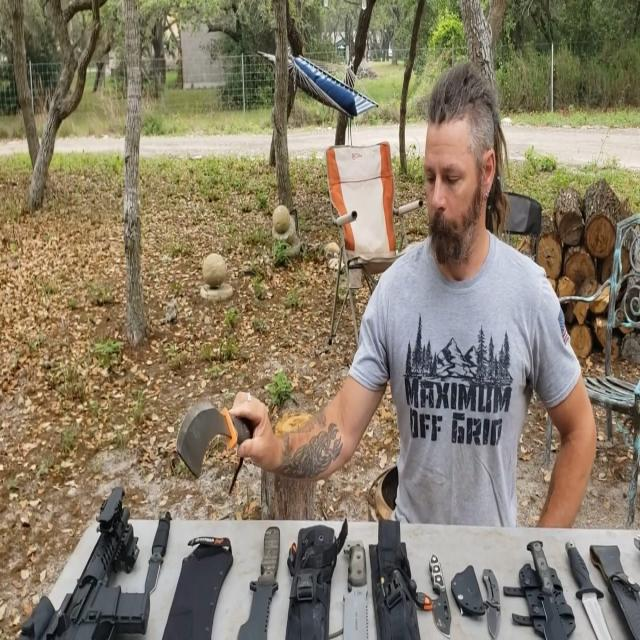knife: (167, 399, 273, 486), (236, 503, 300, 639), (334, 526, 392, 639), (520, 531, 574, 639), (562, 537, 614, 639), (146, 489, 176, 594), (425, 542, 455, 639), (479, 554, 512, 639)
long weapon: (21, 467, 166, 639)
